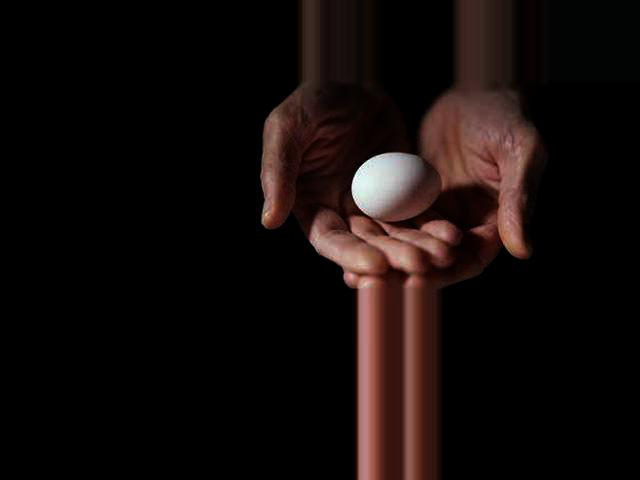egg: (350, 151, 440, 221)
